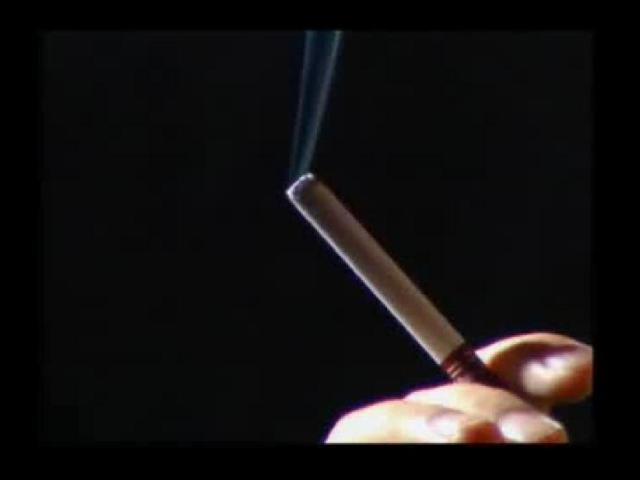Smoking: (274, 168, 490, 380)
